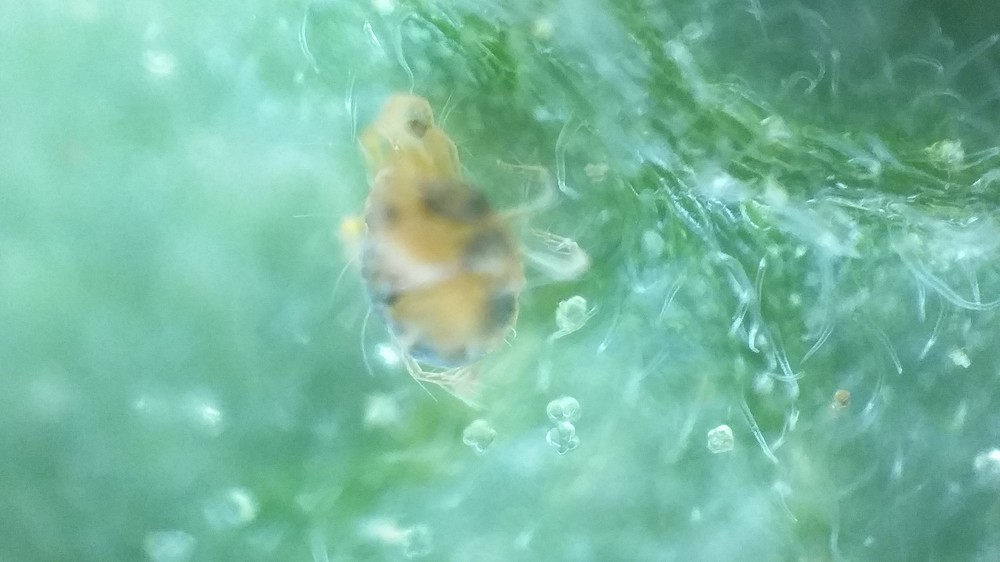Aracnido Rojo: (286, 94, 592, 431)
